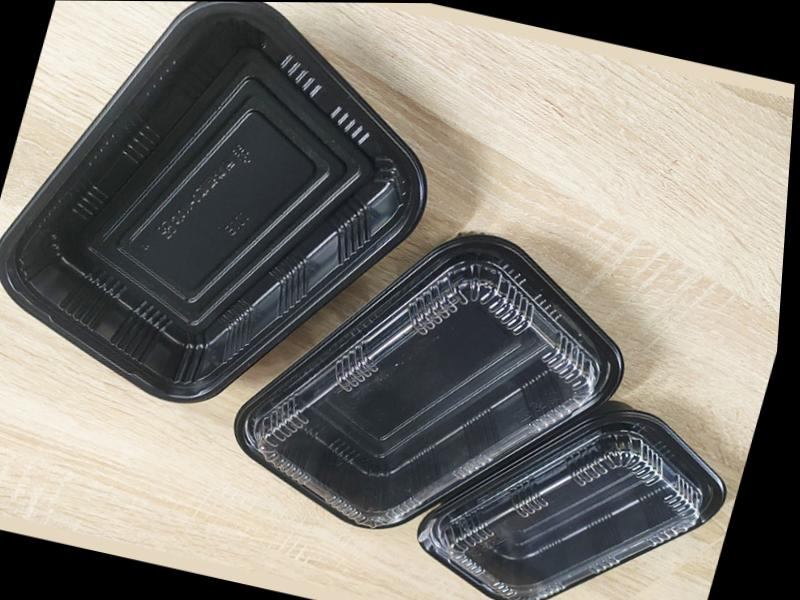plastic: (0, 4, 424, 399), (236, 235, 621, 527), (418, 401, 724, 599)
